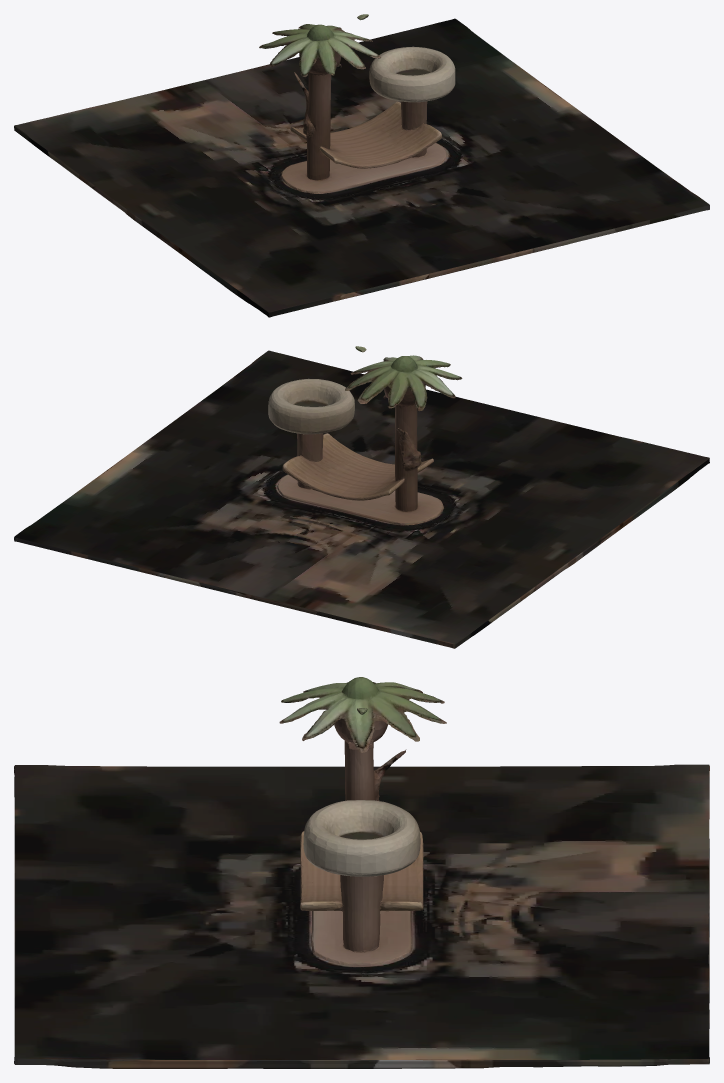
The model's file is ast_ddf364c7834d.glb.
3 views of the same model, one above another, from view 1: azimuth 30°, elevation 25°; view 2: azimuth 150°, elevation 25°; view 3: azimuth 270°, elevation 25° (orthographic). The views are drawn at different scales.
Parts seen in each view (by area): view 1: geometry_0; view 2: geometry_0; view 3: geometry_0.
Boxes of the visible parts, x1,y1,x2,y2 form: geometry_0: [14, 14, 709, 317]; geometry_0: [14, 346, 709, 648]; geometry_0: [14, 677, 709, 1068].
Size of the model in its own units: 1 by 0.3434 by 1.
Materials: 1 (1 with a texture image).
